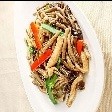chashugu: (22, 2, 89, 105)
